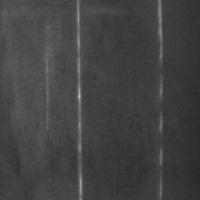scratches: (72, 1, 87, 199), (154, 1, 167, 199)
